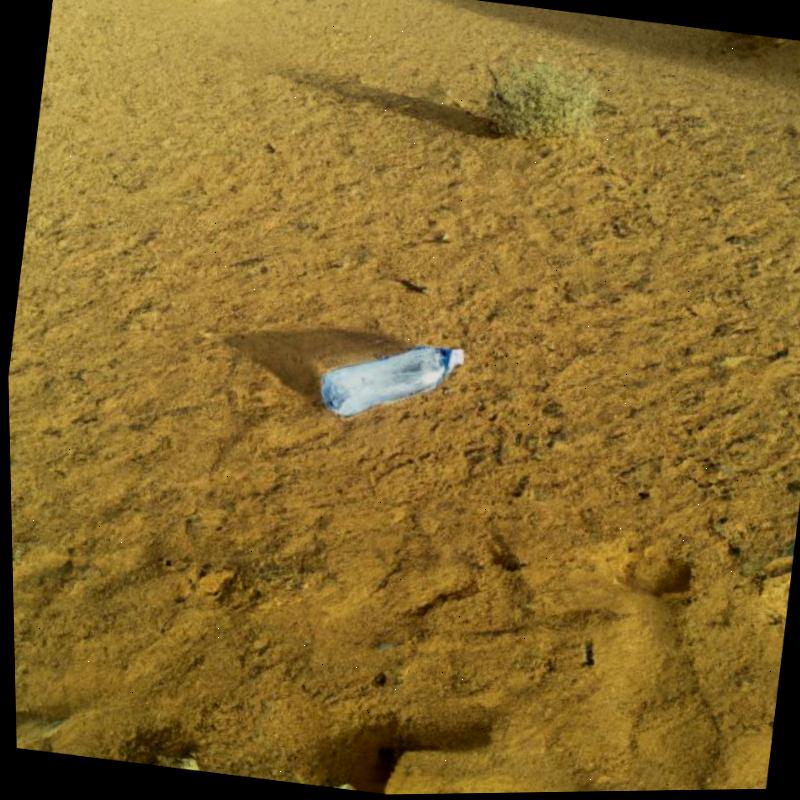botella: (314, 331, 465, 433)
